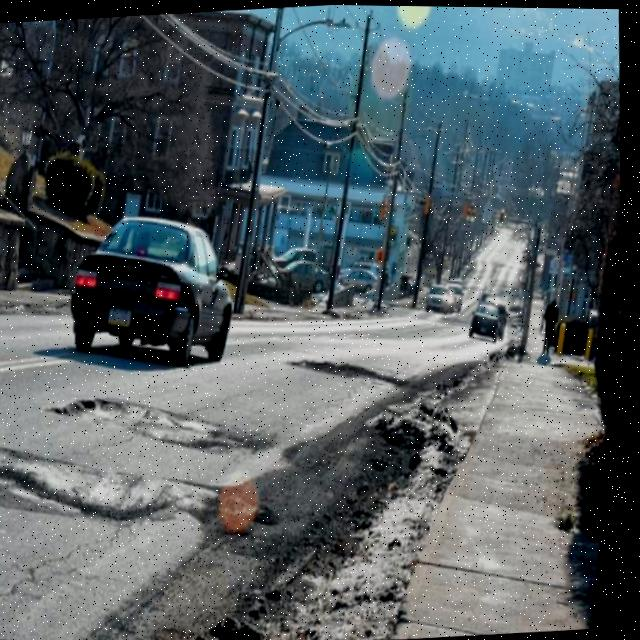Pothole: (164, 296, 556, 640), (0, 415, 232, 573), (45, 377, 274, 489), (275, 319, 442, 411)
